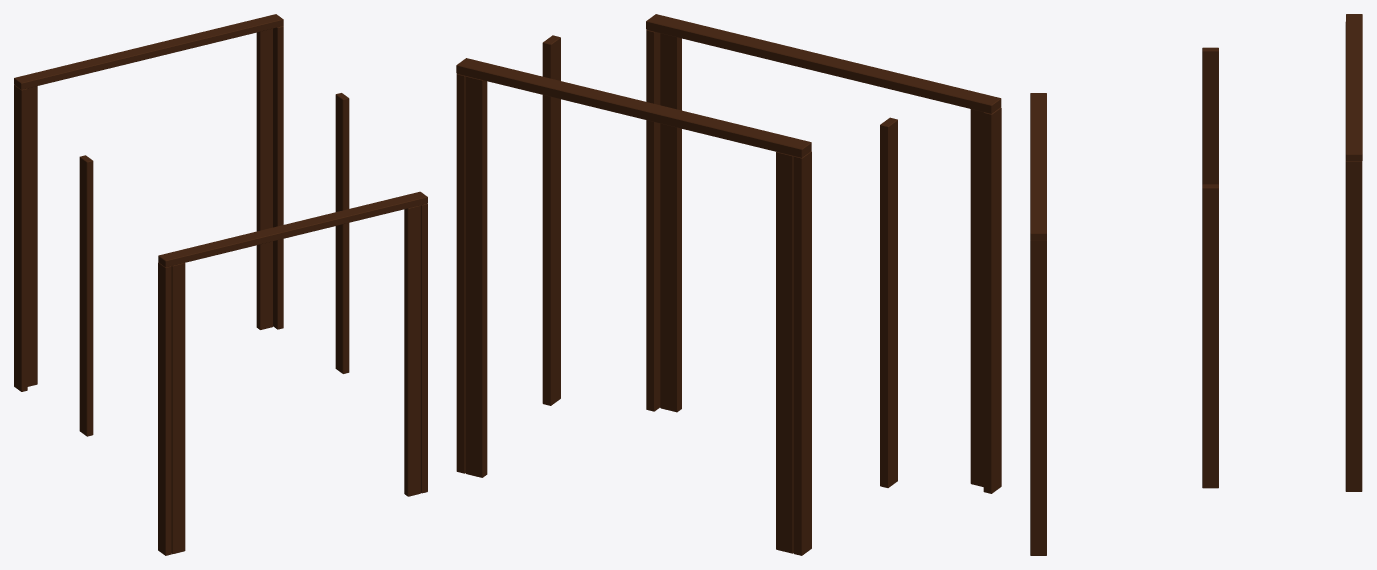
File: SM_Porch_Posts.fbx
The picture shows the model from 3 angles, left to right: view 1: azimuth 30°, elevation 25°; view 2: azimuth 150°, elevation 25°; view 3: azimuth 270°, elevation 25°; orthographic projection. The views are drawn at different scales.
Parts seen in each view (by area): view 1: SM_Porch_Posts; view 2: SM_Porch_Posts; view 3: SM_Porch_Posts.
Boxes of the visible parts, x1=… form: SM_Porch_Posts: x1=14, y1=14, x2=427, y2=555; SM_Porch_Posts: x1=456, y1=14, x2=1001, y2=555; SM_Porch_Posts: x1=1030, y1=14, x2=1362, y2=555.
Bounding box in the file's own units: 200 × 267 × 200.
